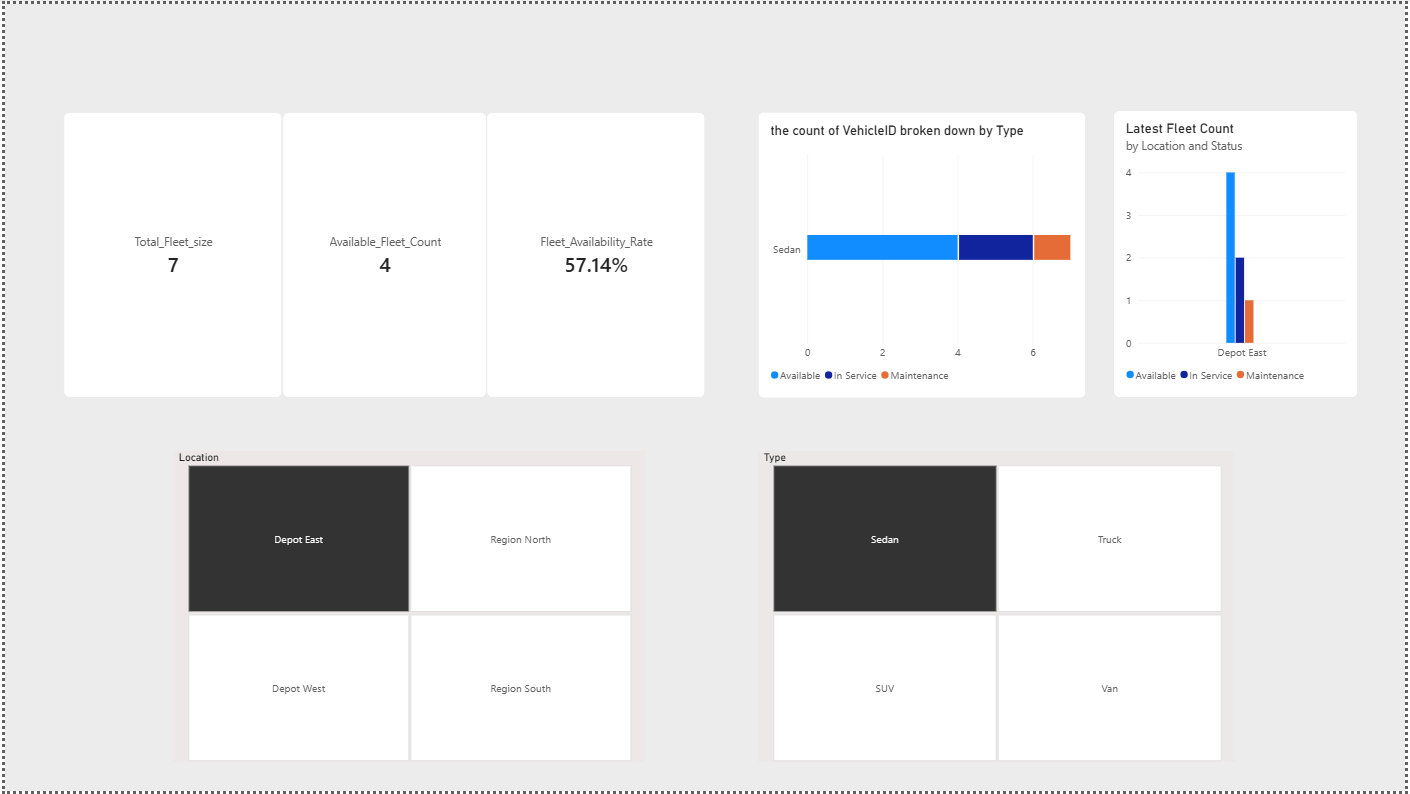

The page's visual inventory and layout, read from the dashboard file:
{"tool":"powerbi","page":{"name":"Car Fleet Availability Management Solution","canvas":[1920,1080],"ordinal":0},"visuals":[{"type":"cardVisual","fields":{"Data":["Vehicle_Register.Available_Fleet_Count"]},"box":[380,147.5,280,392.5],"z":0},{"type":"cardVisual","fields":{"Data":["Vehicle_Register.Total_Fleet_size"]},"box":[80,147.5,300,392.5],"z":1000},{"type":"cardVisual","fields":{"Data":["Vehicle_Register.Fleet_Availability_Rate"]},"box":[660,147.5,300,392.5],"z":2000},{"type":"barChart","title":"the count of VehicleID broken down by Type","fields":{"Category":["Vehicle_Register.Type"],"Series":["Status_Log.Status"],"Y":["Status_Log.Latest Fleet Count"]},"box":[1032.5,147.5,450,392.5],"z":3000},{"type":"clusteredColumnChart","fields":{"Category":["Vehicle_Register.Location"],"Series":["Status_Log.Status"],"Y":["Status_Log.Latest Fleet Count"]},"box":[1520.3,146.4,335.2,394.2],"z":4000},{"type":"slicer","fields":{"Values":["Vehicle_Register.Location"]},"box":[230,612.5,647.5,427.5],"z":5000},{"type":"slicer","fields":{"Values":["Vehicle_Register.Type"]},"box":[1032.5,612.5,655,427.5],"z":6000}]}

Visuals, with their boxes in screenshot pixels (x1, y1, x2, y2), scaled from the page's 1920x1080 canvas onto the 1410x794 screenshot:
cardVisual - Vehicle_Register.Available_Fleet_Count: pyautogui.locateOnScreen(279, 108, 485, 397)
cardVisual - Vehicle_Register.Total_Fleet_size: pyautogui.locateOnScreen(59, 108, 279, 397)
cardVisual - Vehicle_Register.Fleet_Availability_Rate: pyautogui.locateOnScreen(485, 108, 705, 397)
"the count of VehicleID broken down by Type" barChart: pyautogui.locateOnScreen(758, 108, 1089, 397)
clusteredColumnChart - Vehicle_Register.Location x Status_Log.Status: pyautogui.locateOnScreen(1116, 108, 1363, 397)
slicer - Vehicle_Register.Location: pyautogui.locateOnScreen(169, 450, 644, 765)
slicer - Vehicle_Register.Type: pyautogui.locateOnScreen(758, 450, 1239, 765)
